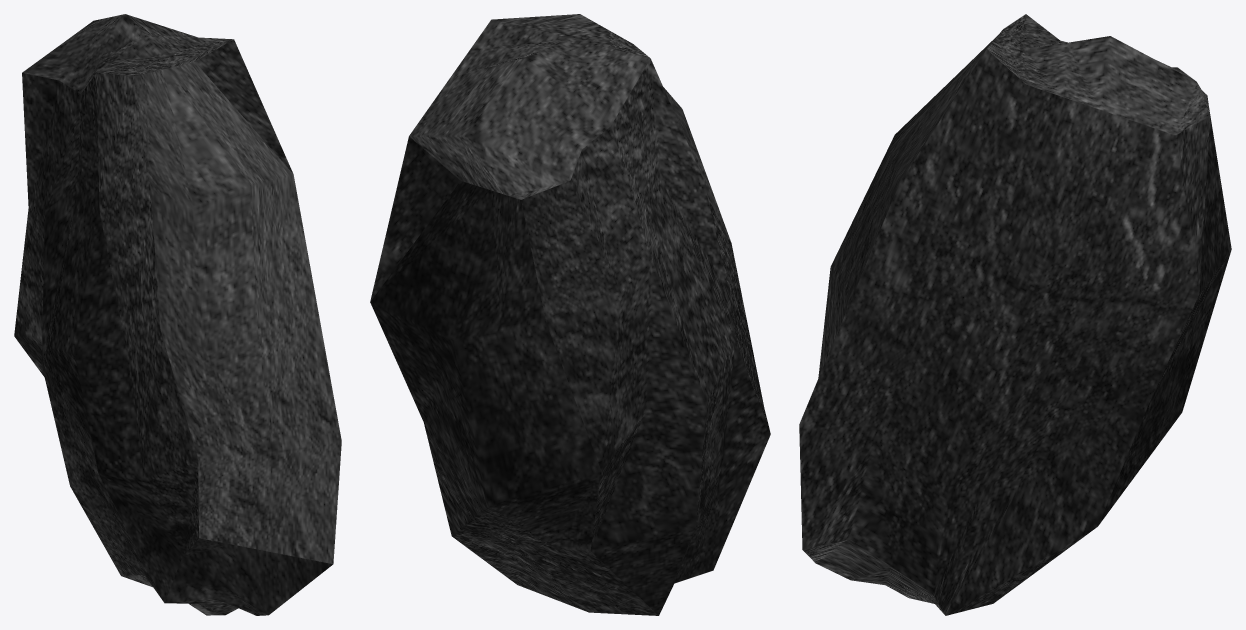
The model's file is graphite.fbx.
3 renders of one model, left to right at view 1: azimuth 30°, elevation 25°; view 2: azimuth 150°, elevation 25°; view 3: azimuth 270°, elevation 25°, orthographic. The views are drawn at different scales.
Visible parts, largest first — view 1: grahite2; view 2: grahite2; view 3: grahite2.
Part boxes in pixels (bbox=[...]): grahite2: bbox=[14, 14, 341, 615]; grahite2: bbox=[370, 14, 770, 615]; grahite2: bbox=[799, 14, 1231, 615].
Size of the model in its own units: 4.33 by 9.06 by 6.26.
1 material, 1 textured.
